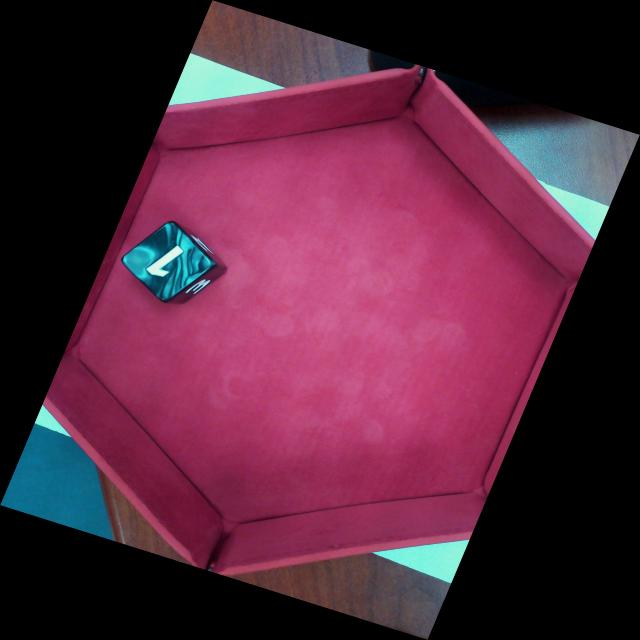dice: (125, 221, 217, 303)
